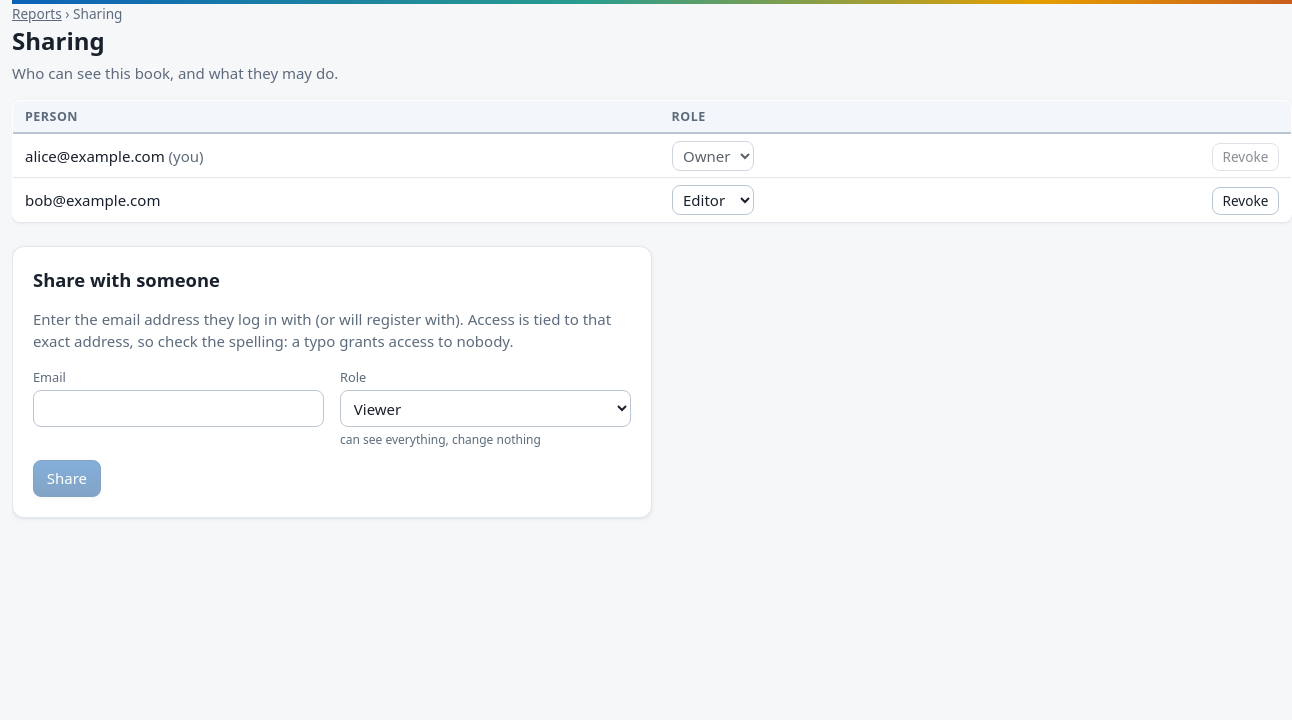
it: SharingPage › lists grants, protects the last owner, and shares by email
Expected: the text "bob@example.com" is shown, x1=12 y1=178 x2=660 y2=222
Expected: the text "(you)" is shown, x1=165 y1=146 x2=204 y2=166
In the field labelled "Email": (178, 408) x1=33 y1=390 x2=324 y2=427, type "  Carol@Example.com "
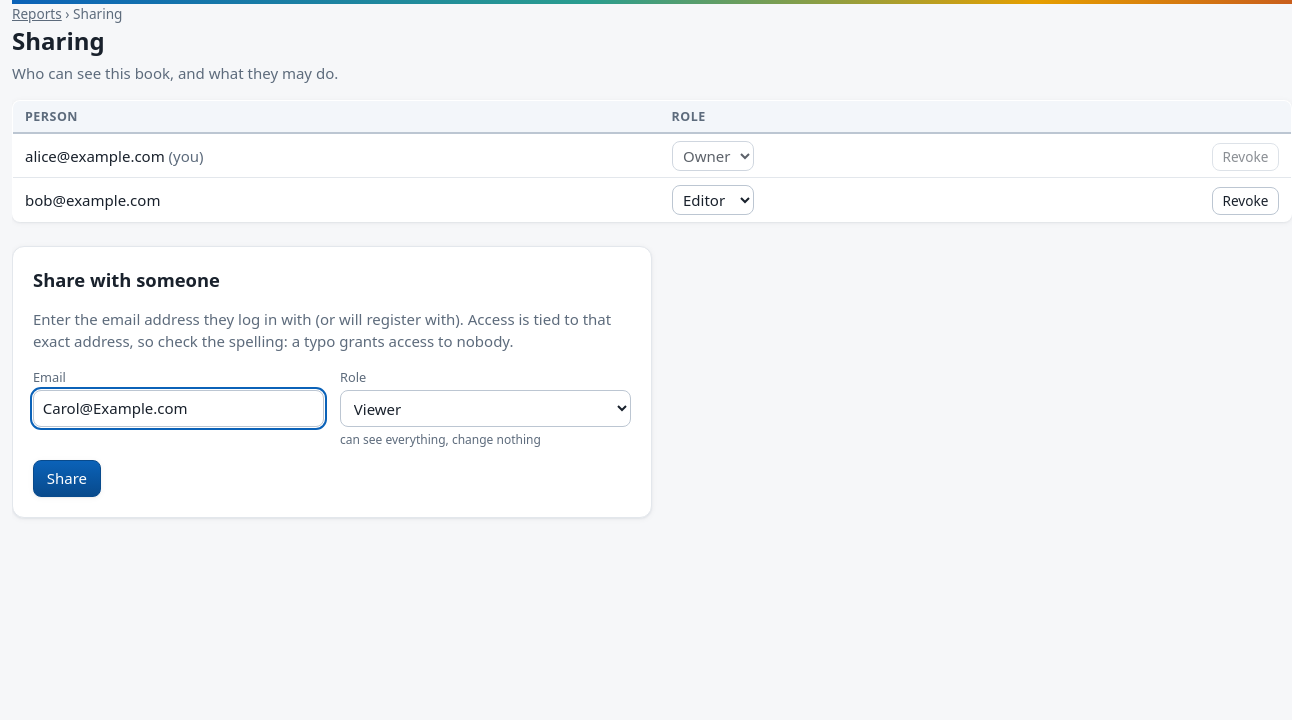
Select "Viewer" in the dropdown labelled "Role": (486, 409) x1=340 y1=390 x2=631 y2=427
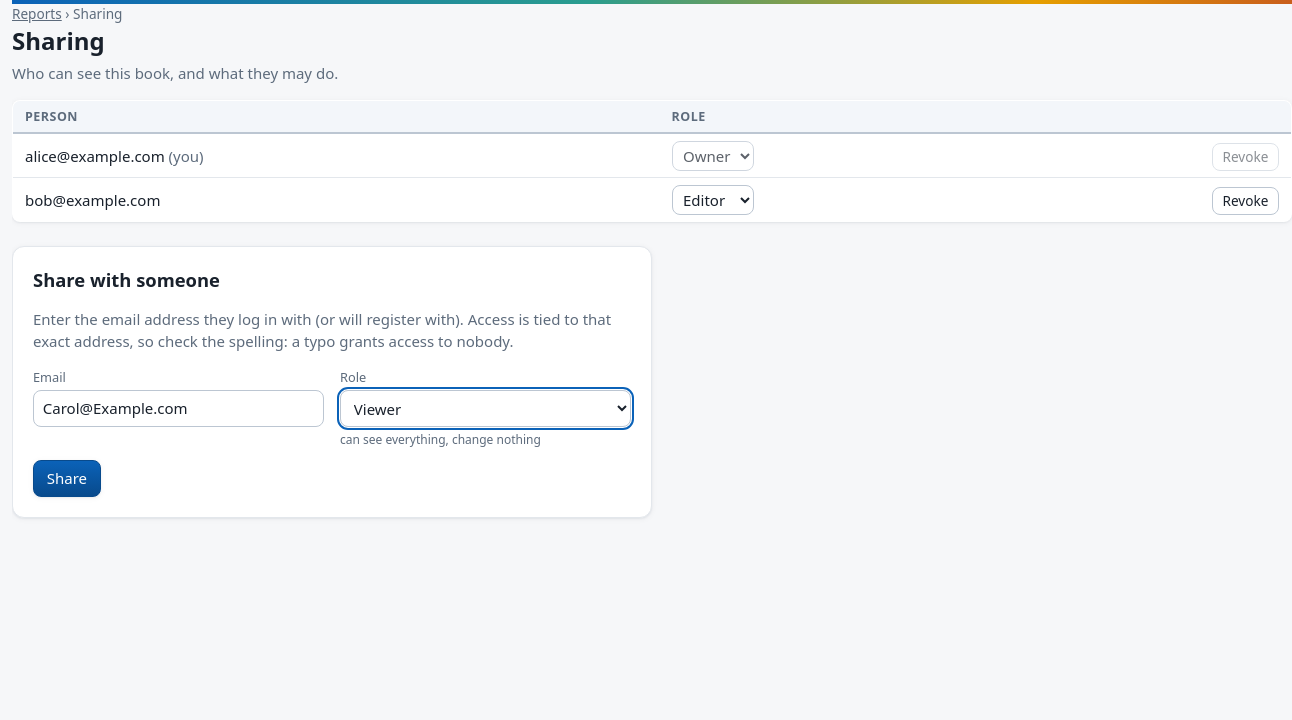
Click the button "Share": (67, 479) x1=33 y1=460 x2=101 y2=497
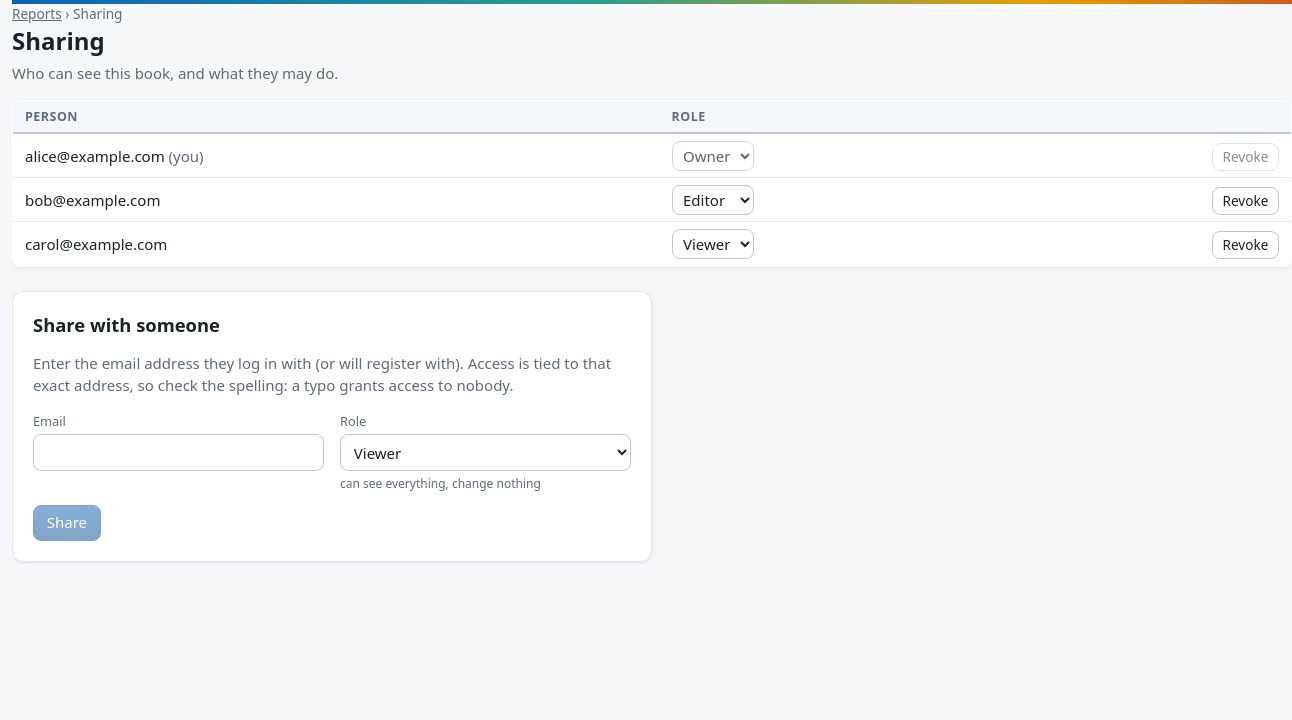
Now the text "carol@example.com" is shown, box x1=12 y1=222 x2=660 y2=266
